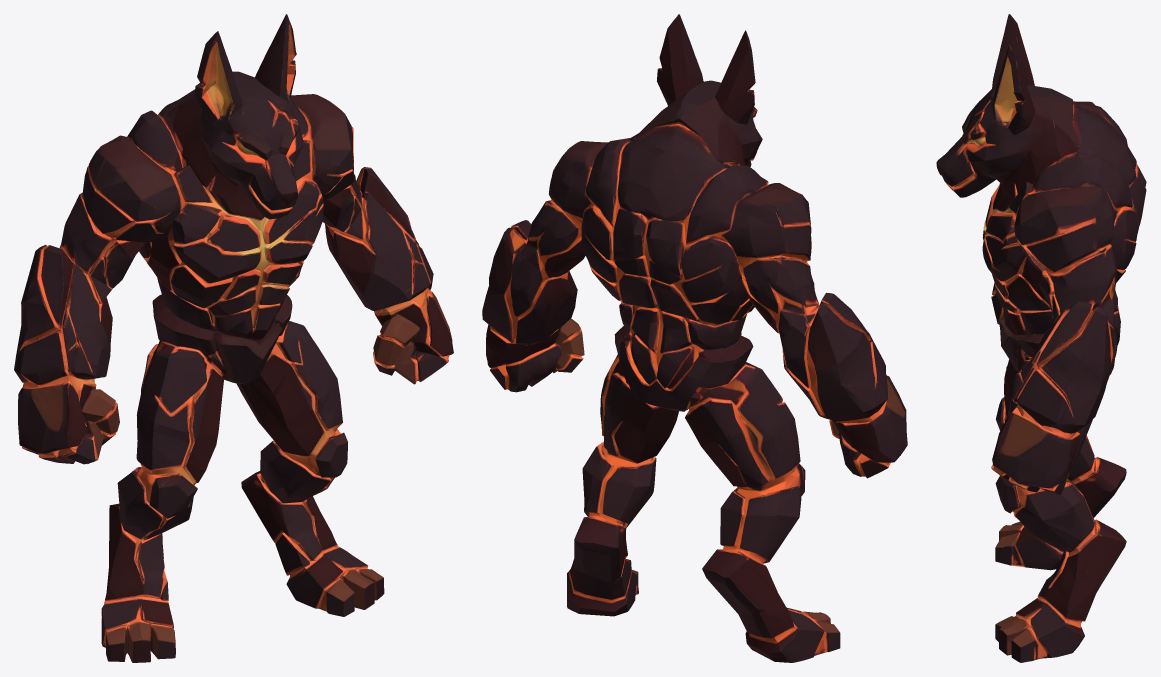
Rendered from cinder_jackal_v2.glb.
3 renders of one model, left to right at view 1: azimuth 30°, elevation 25°; view 2: azimuth 150°, elevation 25°; view 3: azimuth 270°, elevation 25°, orthographic. The views are drawn at different scales.
Bounding box in the file's own units: 1.38 × 1.9 × 0.6345.
1 material, 1 textured.
